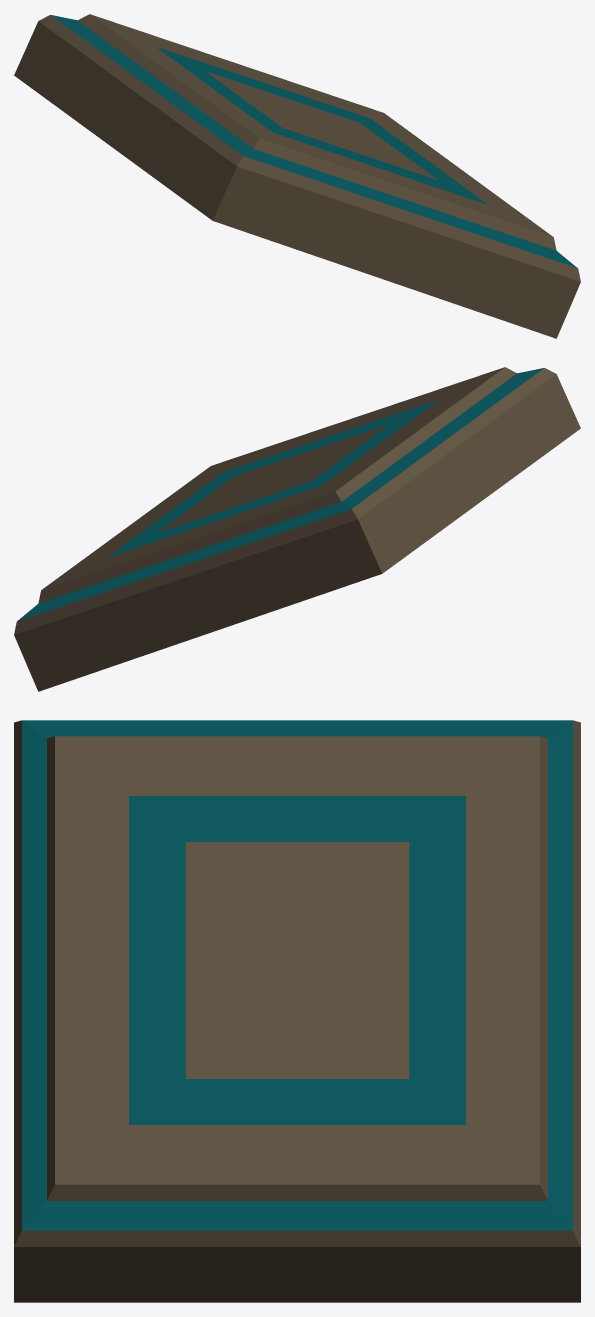
The model's file is ButtonB_Cyan.glb.
The picture shows the model from 3 angles, top to bottom: view 1: azimuth 30°, elevation 25°; view 2: azimuth 150°, elevation 25°; view 3: azimuth 270°, elevation 25°; orthographic projection. The views are drawn at different scales.
Parts seen in each view (by area): view 1: ButtonB; view 2: ButtonB; view 3: ButtonB.
Part boxes in pixels (x1,y1,x2,y2): ButtonB: [14, 14, 580, 338]; ButtonB: [14, 367, 580, 691]; ButtonB: [14, 720, 580, 1302].
Size of what is drawn, in the model's own units: 0.1875 by 0.1259 by 0.1751.
2 materials, 2 textured.
